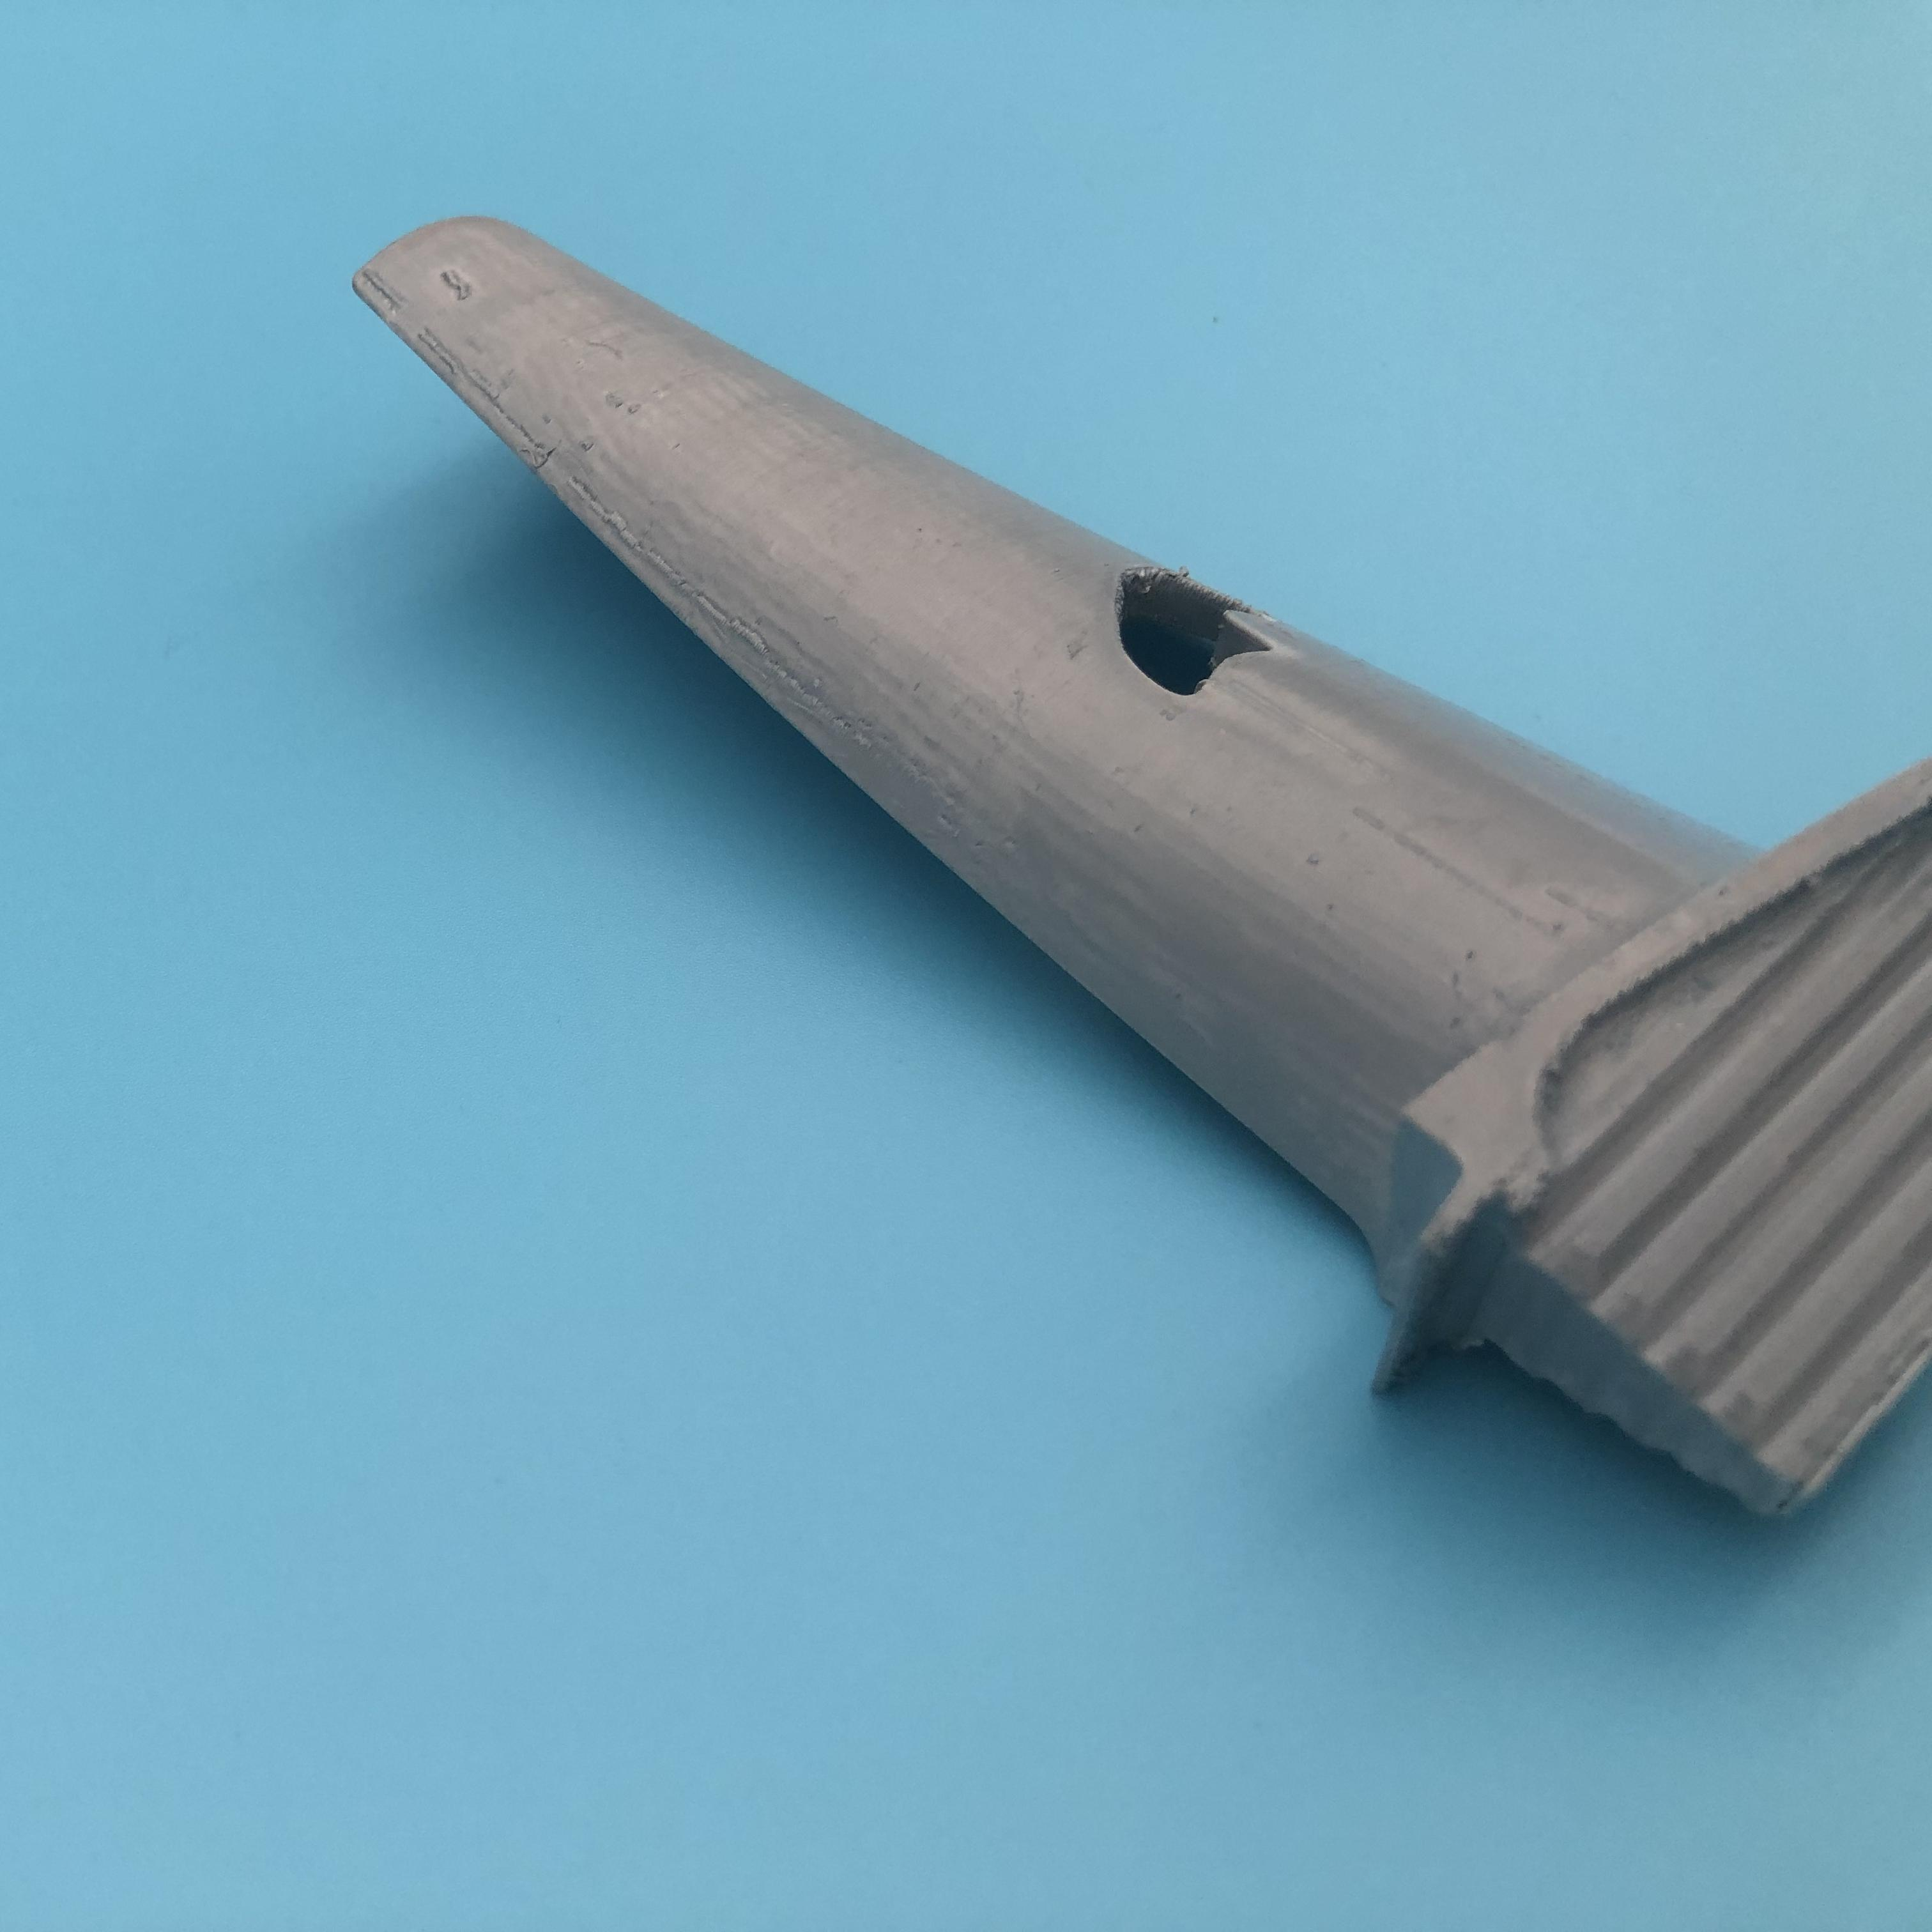breakdown: (1113, 543, 1302, 718)
